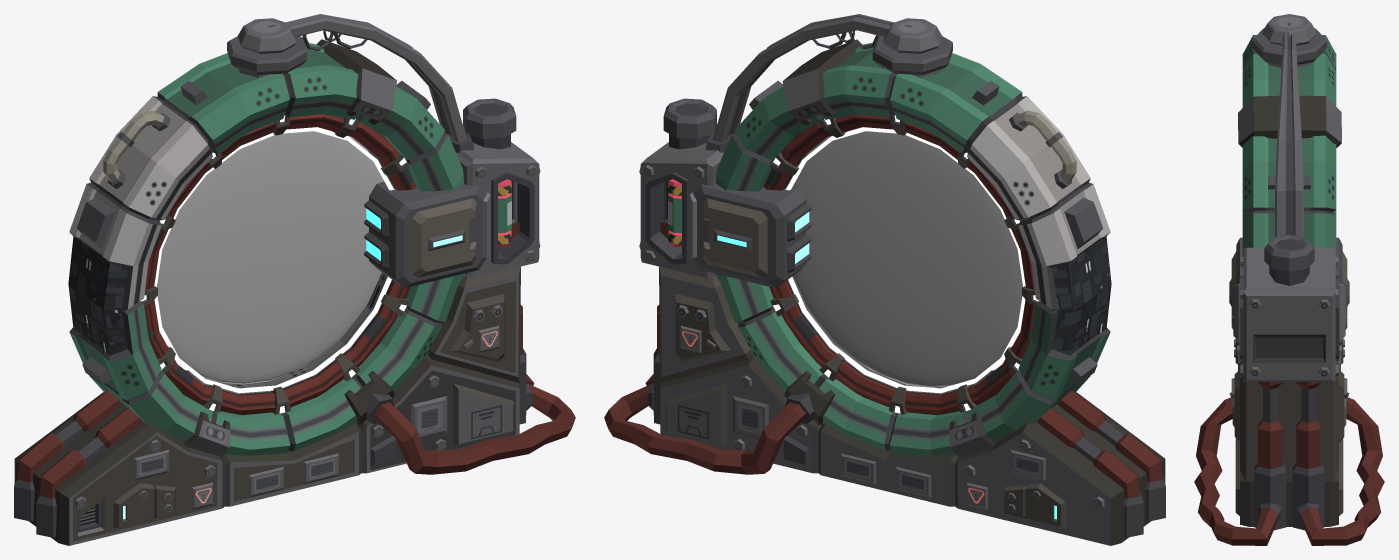
File: SMBldPortal.glb
3 renders of one model, left to right at view 1: azimuth 30°, elevation 25°; view 2: azimuth 150°, elevation 25°; view 3: azimuth 270°, elevation 25°, orthographic. The views are drawn at different scales.
Visible parts, largest first — view 1: SM_Bld_Portal_01, Warp_Sphere; view 2: SM_Bld_Portal_01, Warp_Sphere; view 3: SM_Bld_Portal_01.
Boxes of the visible parts, x1,y1,x2,y2 form: SM_Bld_Portal_01: [14, 14, 575, 545]; Warp_Sphere: [157, 127, 383, 384]; SM_Bld_Portal_01: [604, 14, 1165, 545]; Warp_Sphere: [793, 127, 1022, 387]; SM_Bld_Portal_01: [1194, 14, 1384, 545].
Bounding box in the file's own units: 29.49 × 24.02 × 10.29.
3 materials, 2 textured.
